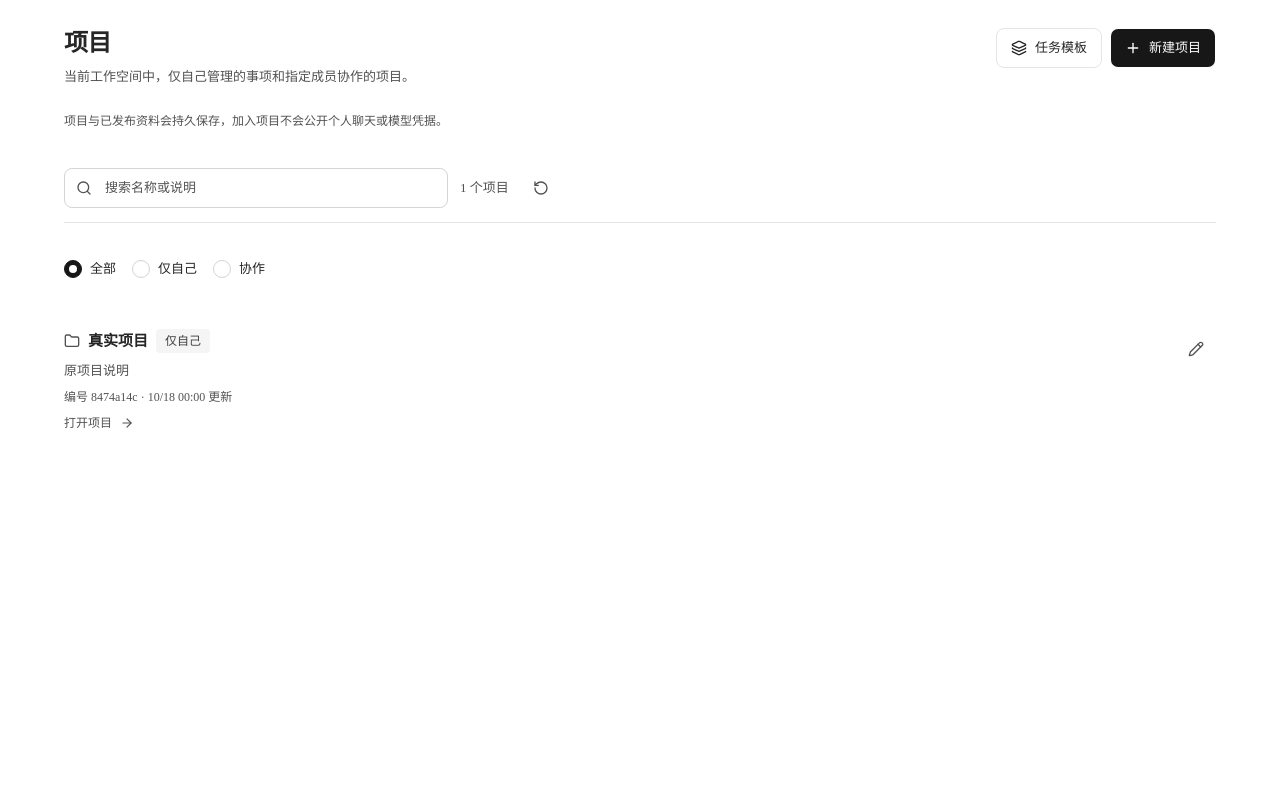
Scenario: shadcn project and template workflows › keeps a project creation dialog open during a request, preserves failed fields and UUID, and navigates only after confirmed save
The image size is (1280, 800).
Click the button "新建项目": (1163, 48) [1110,28,1216,68]
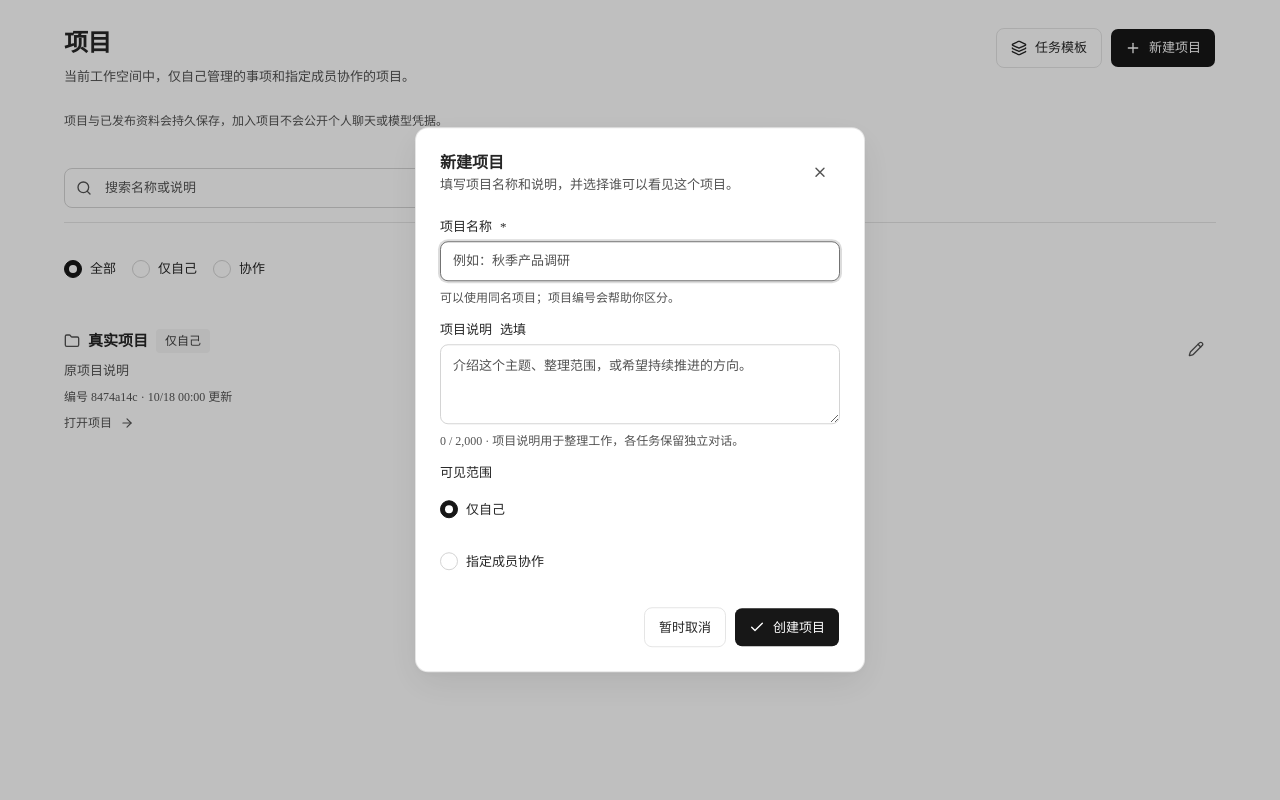
Click the button "创建项目": (787, 628) [734,608,840,648]
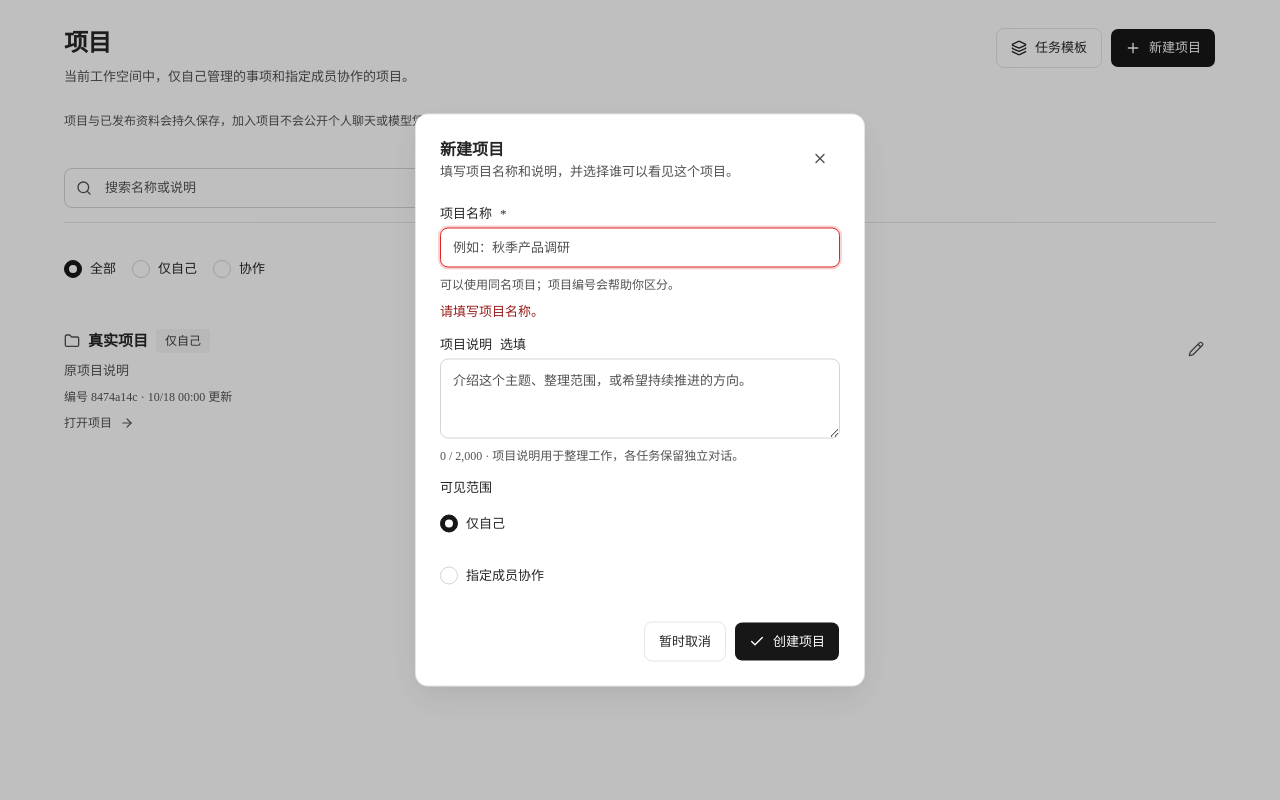
In the field labelled "项目名称 *": (640, 248) [440,228,840,268], type "新项目"
In the text box labelled "项目说明 选填": (640, 398) [440,358,840,438], type "完整说明"
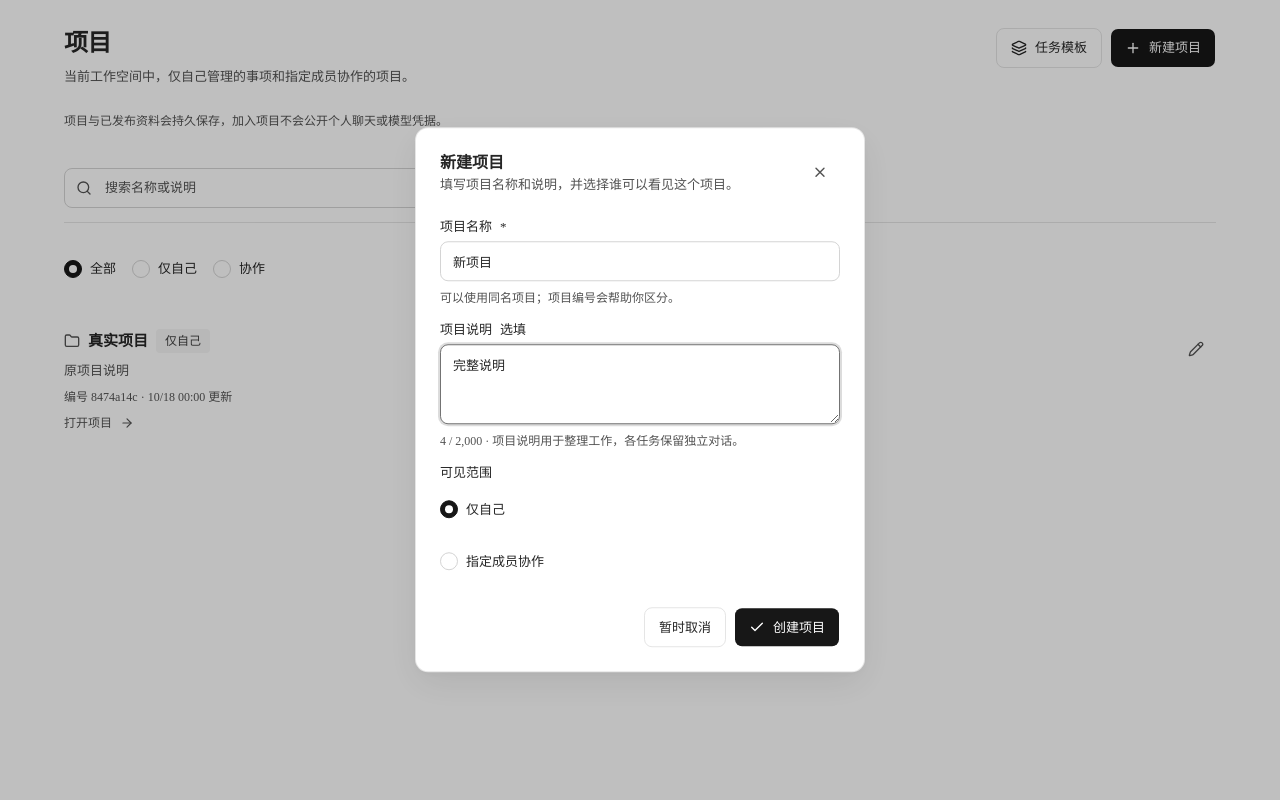
Click the button "创建项目": (787, 628) [734,608,840,648]
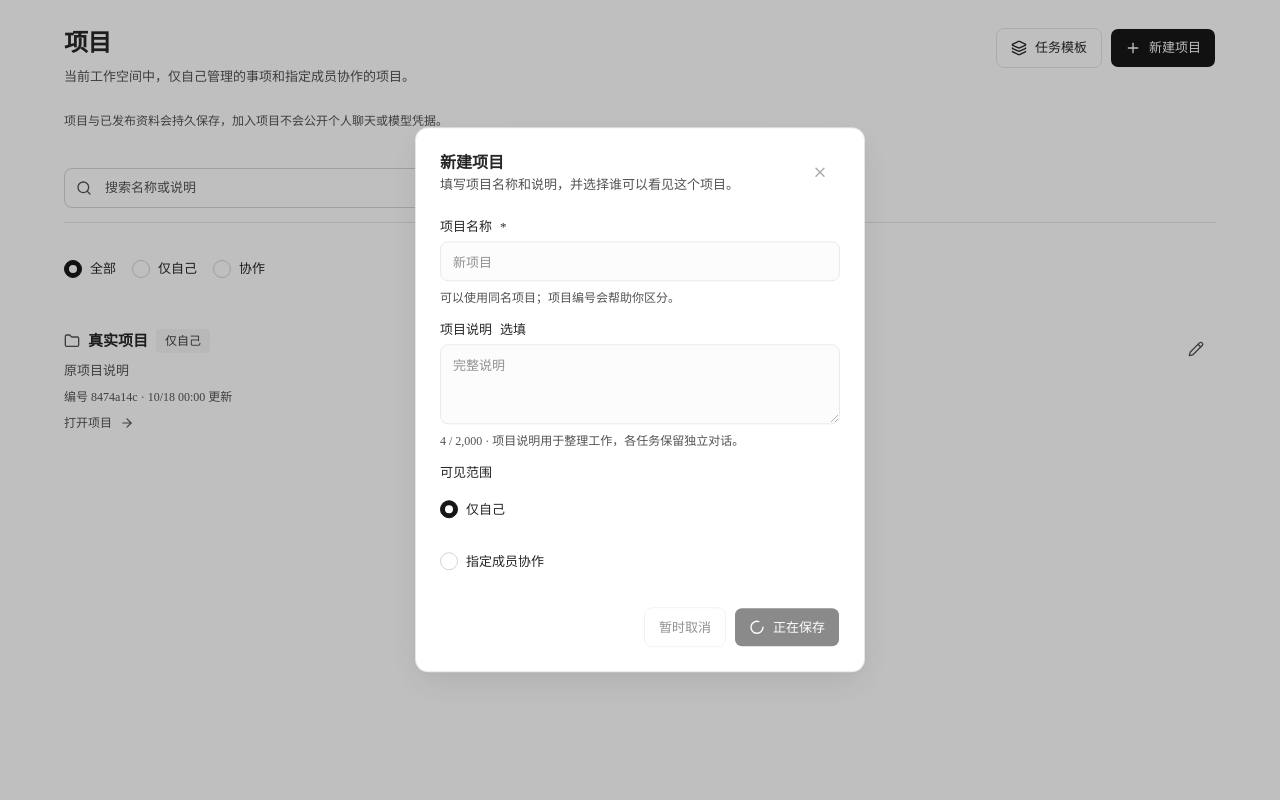
Press Escape
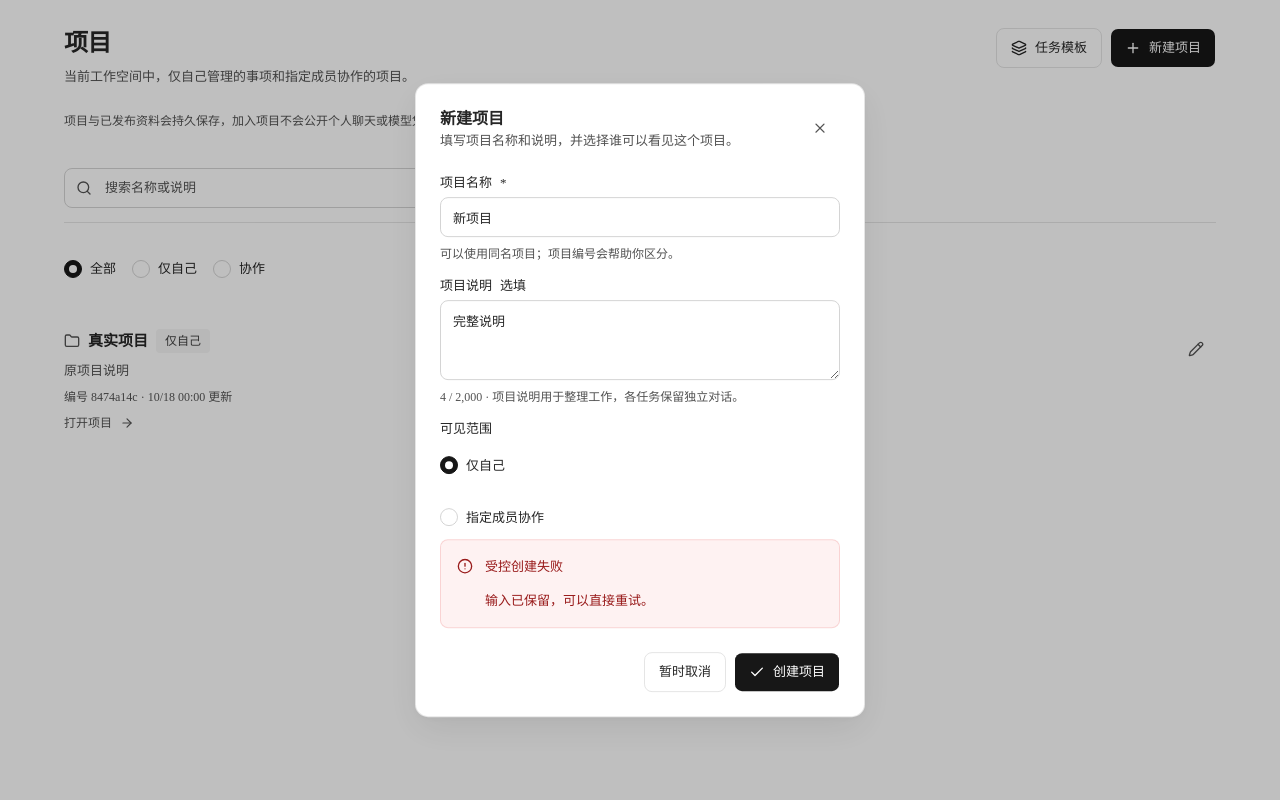
Expected: the text "受控创建失败" is shown, [485,560,563,575]
Click the button "创建项目": (787, 672) [734,652,840,692]
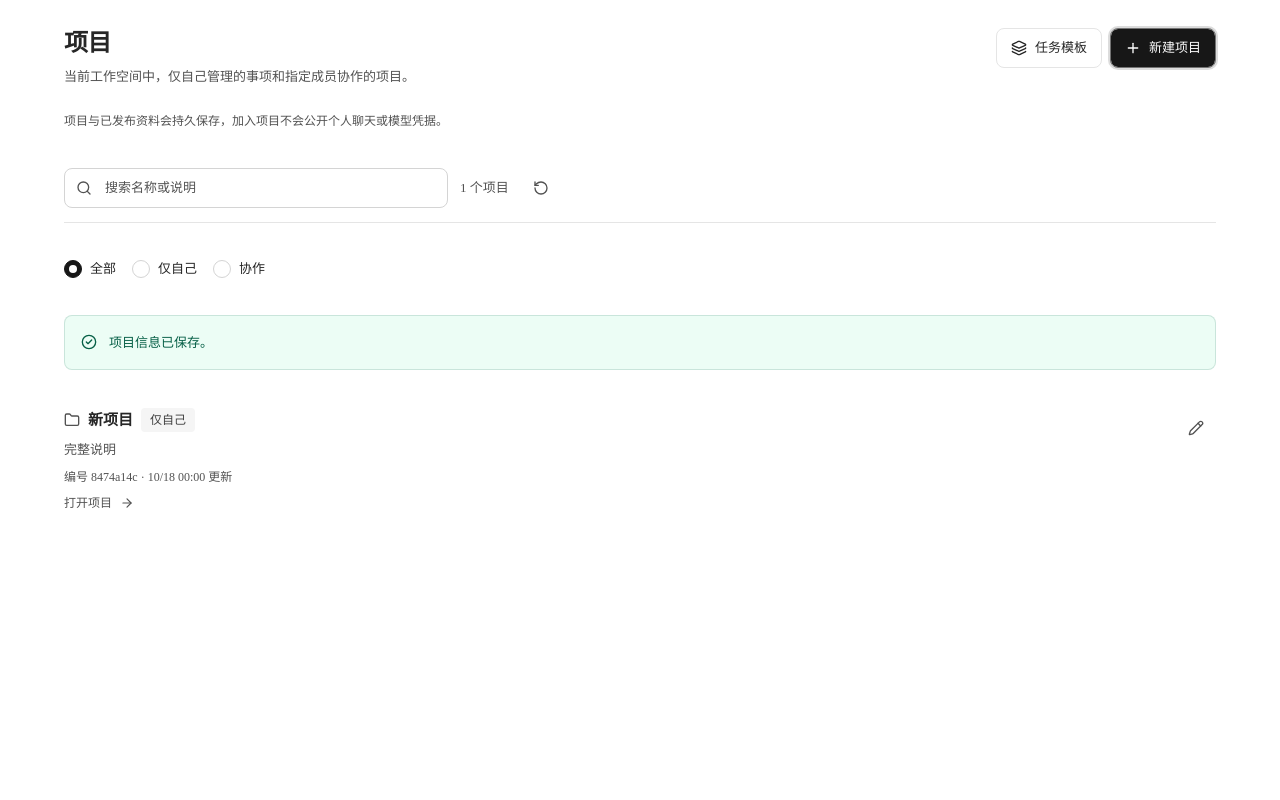
Expected: the dialog is gone
